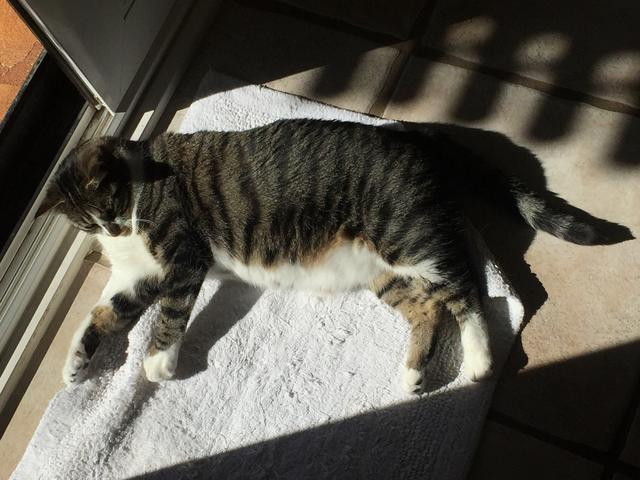playdoh: (33, 129, 635, 393)
